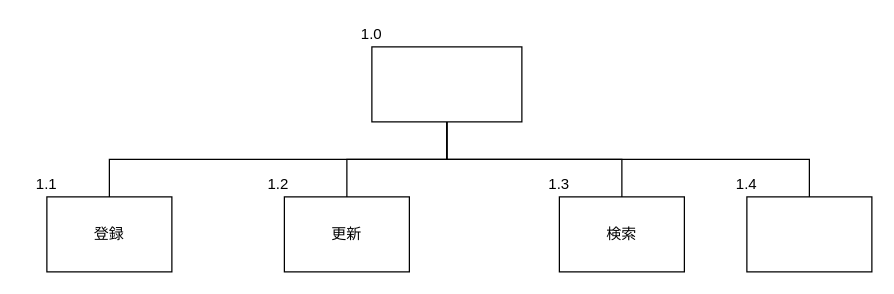
The diagram is 894 pixels wide and 294 high, and some of its shapes have lost their labels. The centre of each missing label's shape, as x and y in pixels:
"入庫済み一覧表示" goes at point (809, 234).
"入庫管理" goes at point (446, 84).
